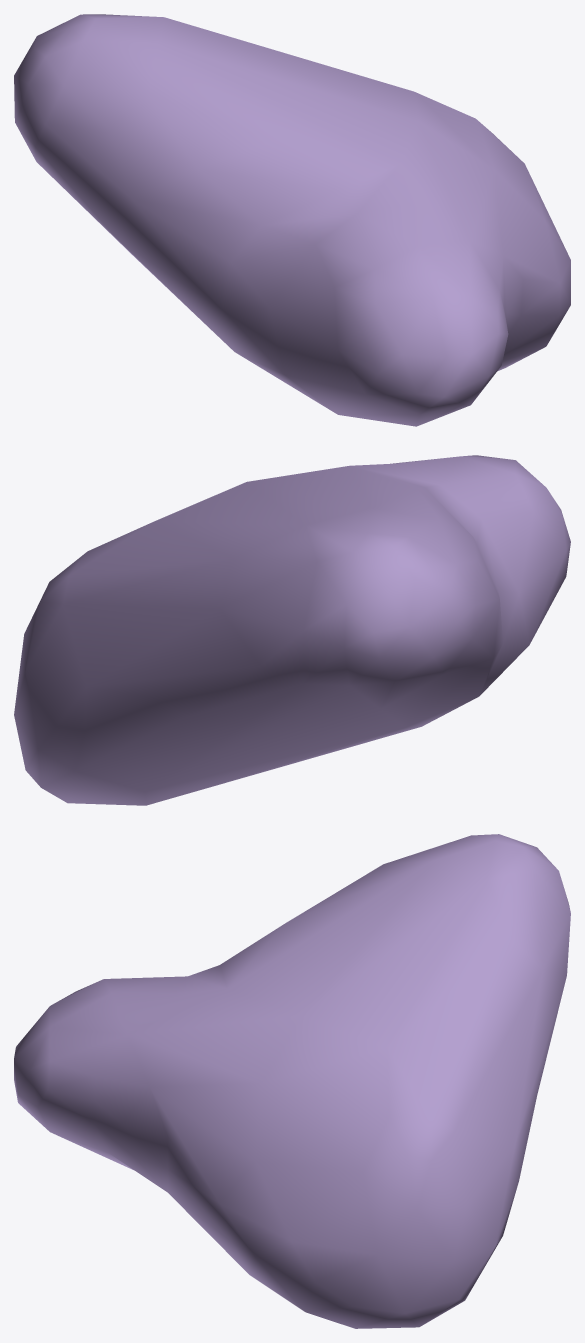
3 renders of one model, top to bottom at view 1: azimuth 30°, elevation 25°; view 2: azimuth 150°, elevation 25°; view 3: azimuth 270°, elevation 25°, orthographic. The views are drawn at different scales.
Parts seen in each view (by area): view 1: 右侧泪小管壶腹; view 2: 右侧泪小管壶腹; view 3: 右侧泪小管壶腹.
Boxes of the visible parts, x1,y1,x2,y2 form: 右侧泪小管壶腹: (14, 14, 570, 426); 右侧泪小管壶腹: (14, 455, 570, 805); 右侧泪小管壶腹: (14, 834, 570, 1328).
Size of the model in its own units: 0.00446 by 0.00339 by 0.00499.
